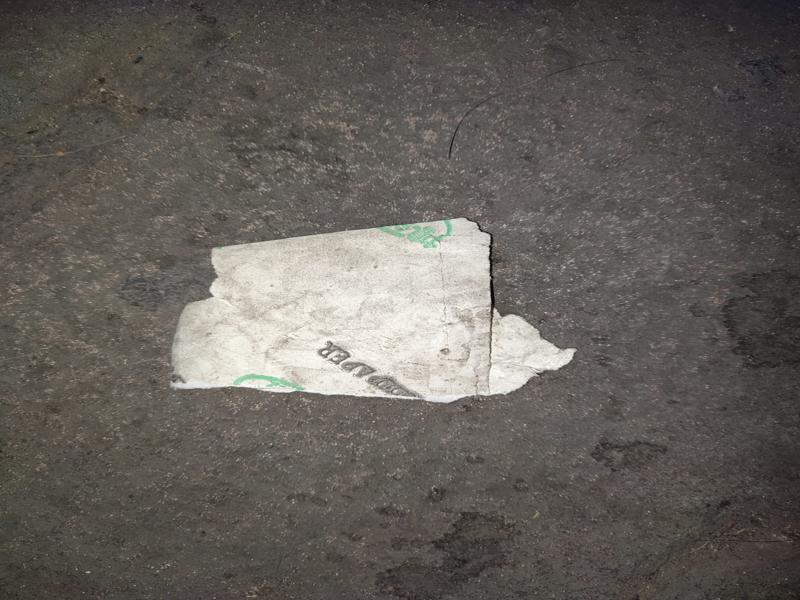papel: (170, 218, 576, 405)
